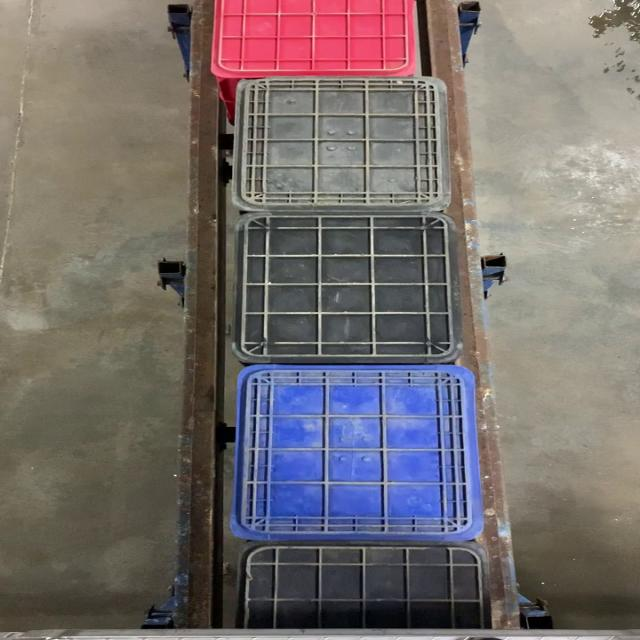Box: (235, 364, 487, 540), (229, 210, 467, 364)
Damaged_box: (235, 74, 454, 210)
